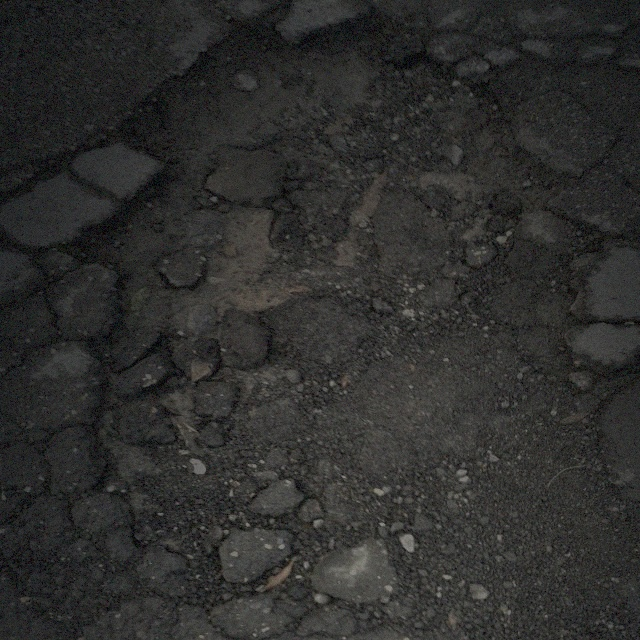pothole: (81, 20, 305, 181), (79, 176, 288, 347), (388, 43, 527, 212)
